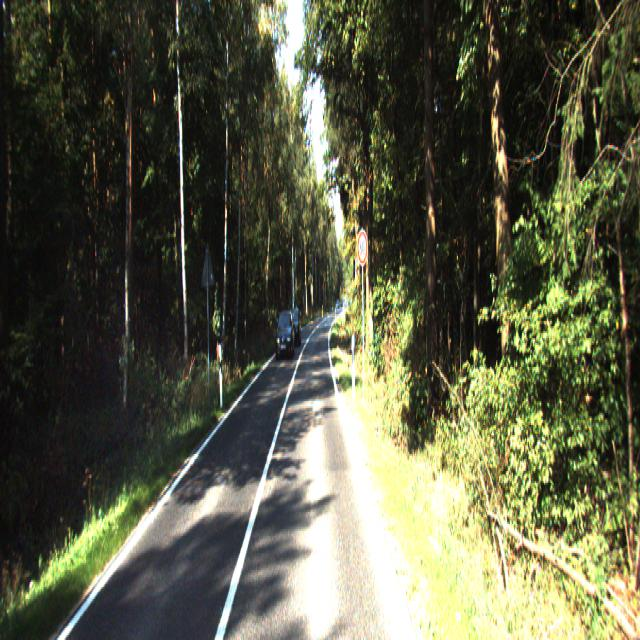Car: (275, 310, 295, 361)
